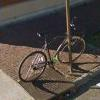Bicycle: (10, 19, 86, 87)
